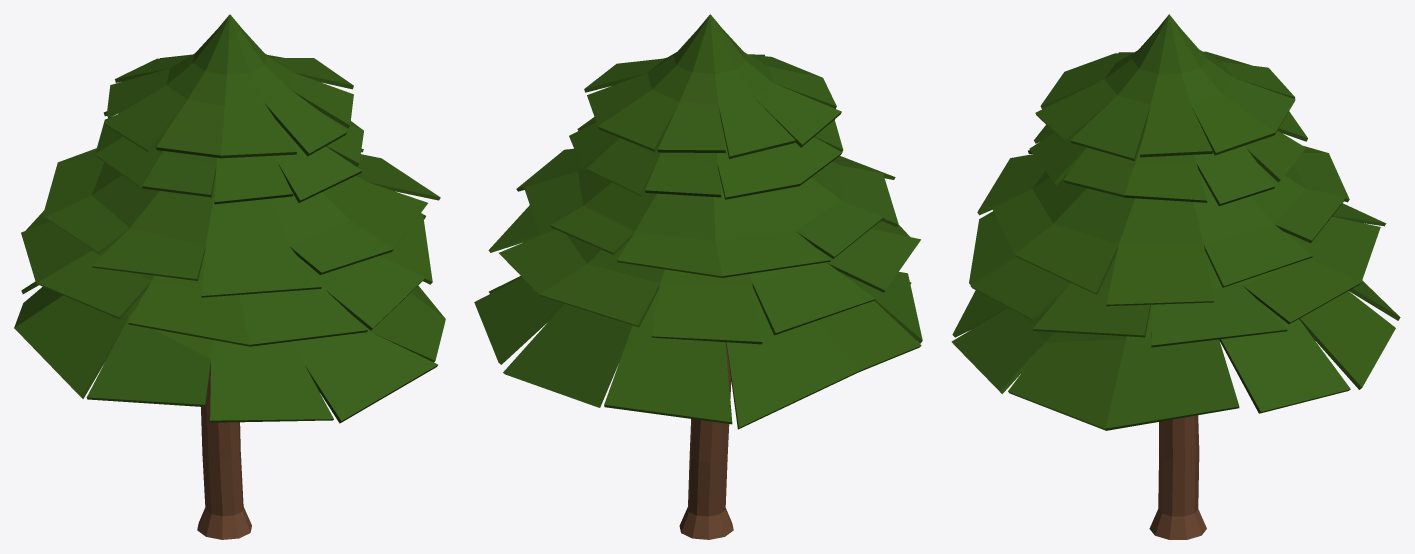
The model's file is pine2correct.fbx.
3 views of the same model, side by side, from view 1: azimuth 30°, elevation 25°; view 2: azimuth 150°, elevation 25°; view 3: azimuth 270°, elevation 25° (orthographic).
Parts seen in each view (by area): view 1: Circle.004; view 2: Circle.004; view 3: Circle.004.
Boxes of the visible parts, <box> form: Circle.004: <box>14,14,445,539</box>; Circle.004: <box>474,14,922,539</box>; Circle.004: <box>951,14,1400,539</box>.
Bounding box in the file's own units: 212 × 277 × 219.
